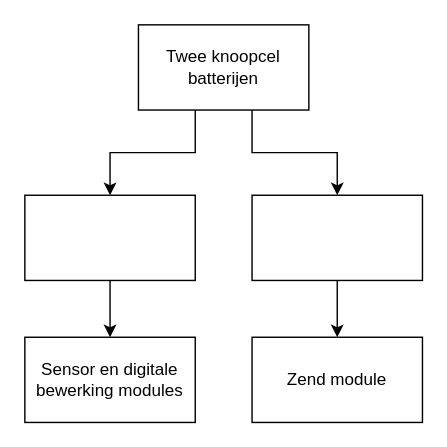
Image size: 447x447. Some labels were removed from this diagram. The shapes that lost their labels are listed below. From the top down, each one's centre as x and y in pixels, then its label:
the point at 109,237: 3.3 V converter
the point at 336,237: 5 V converter
